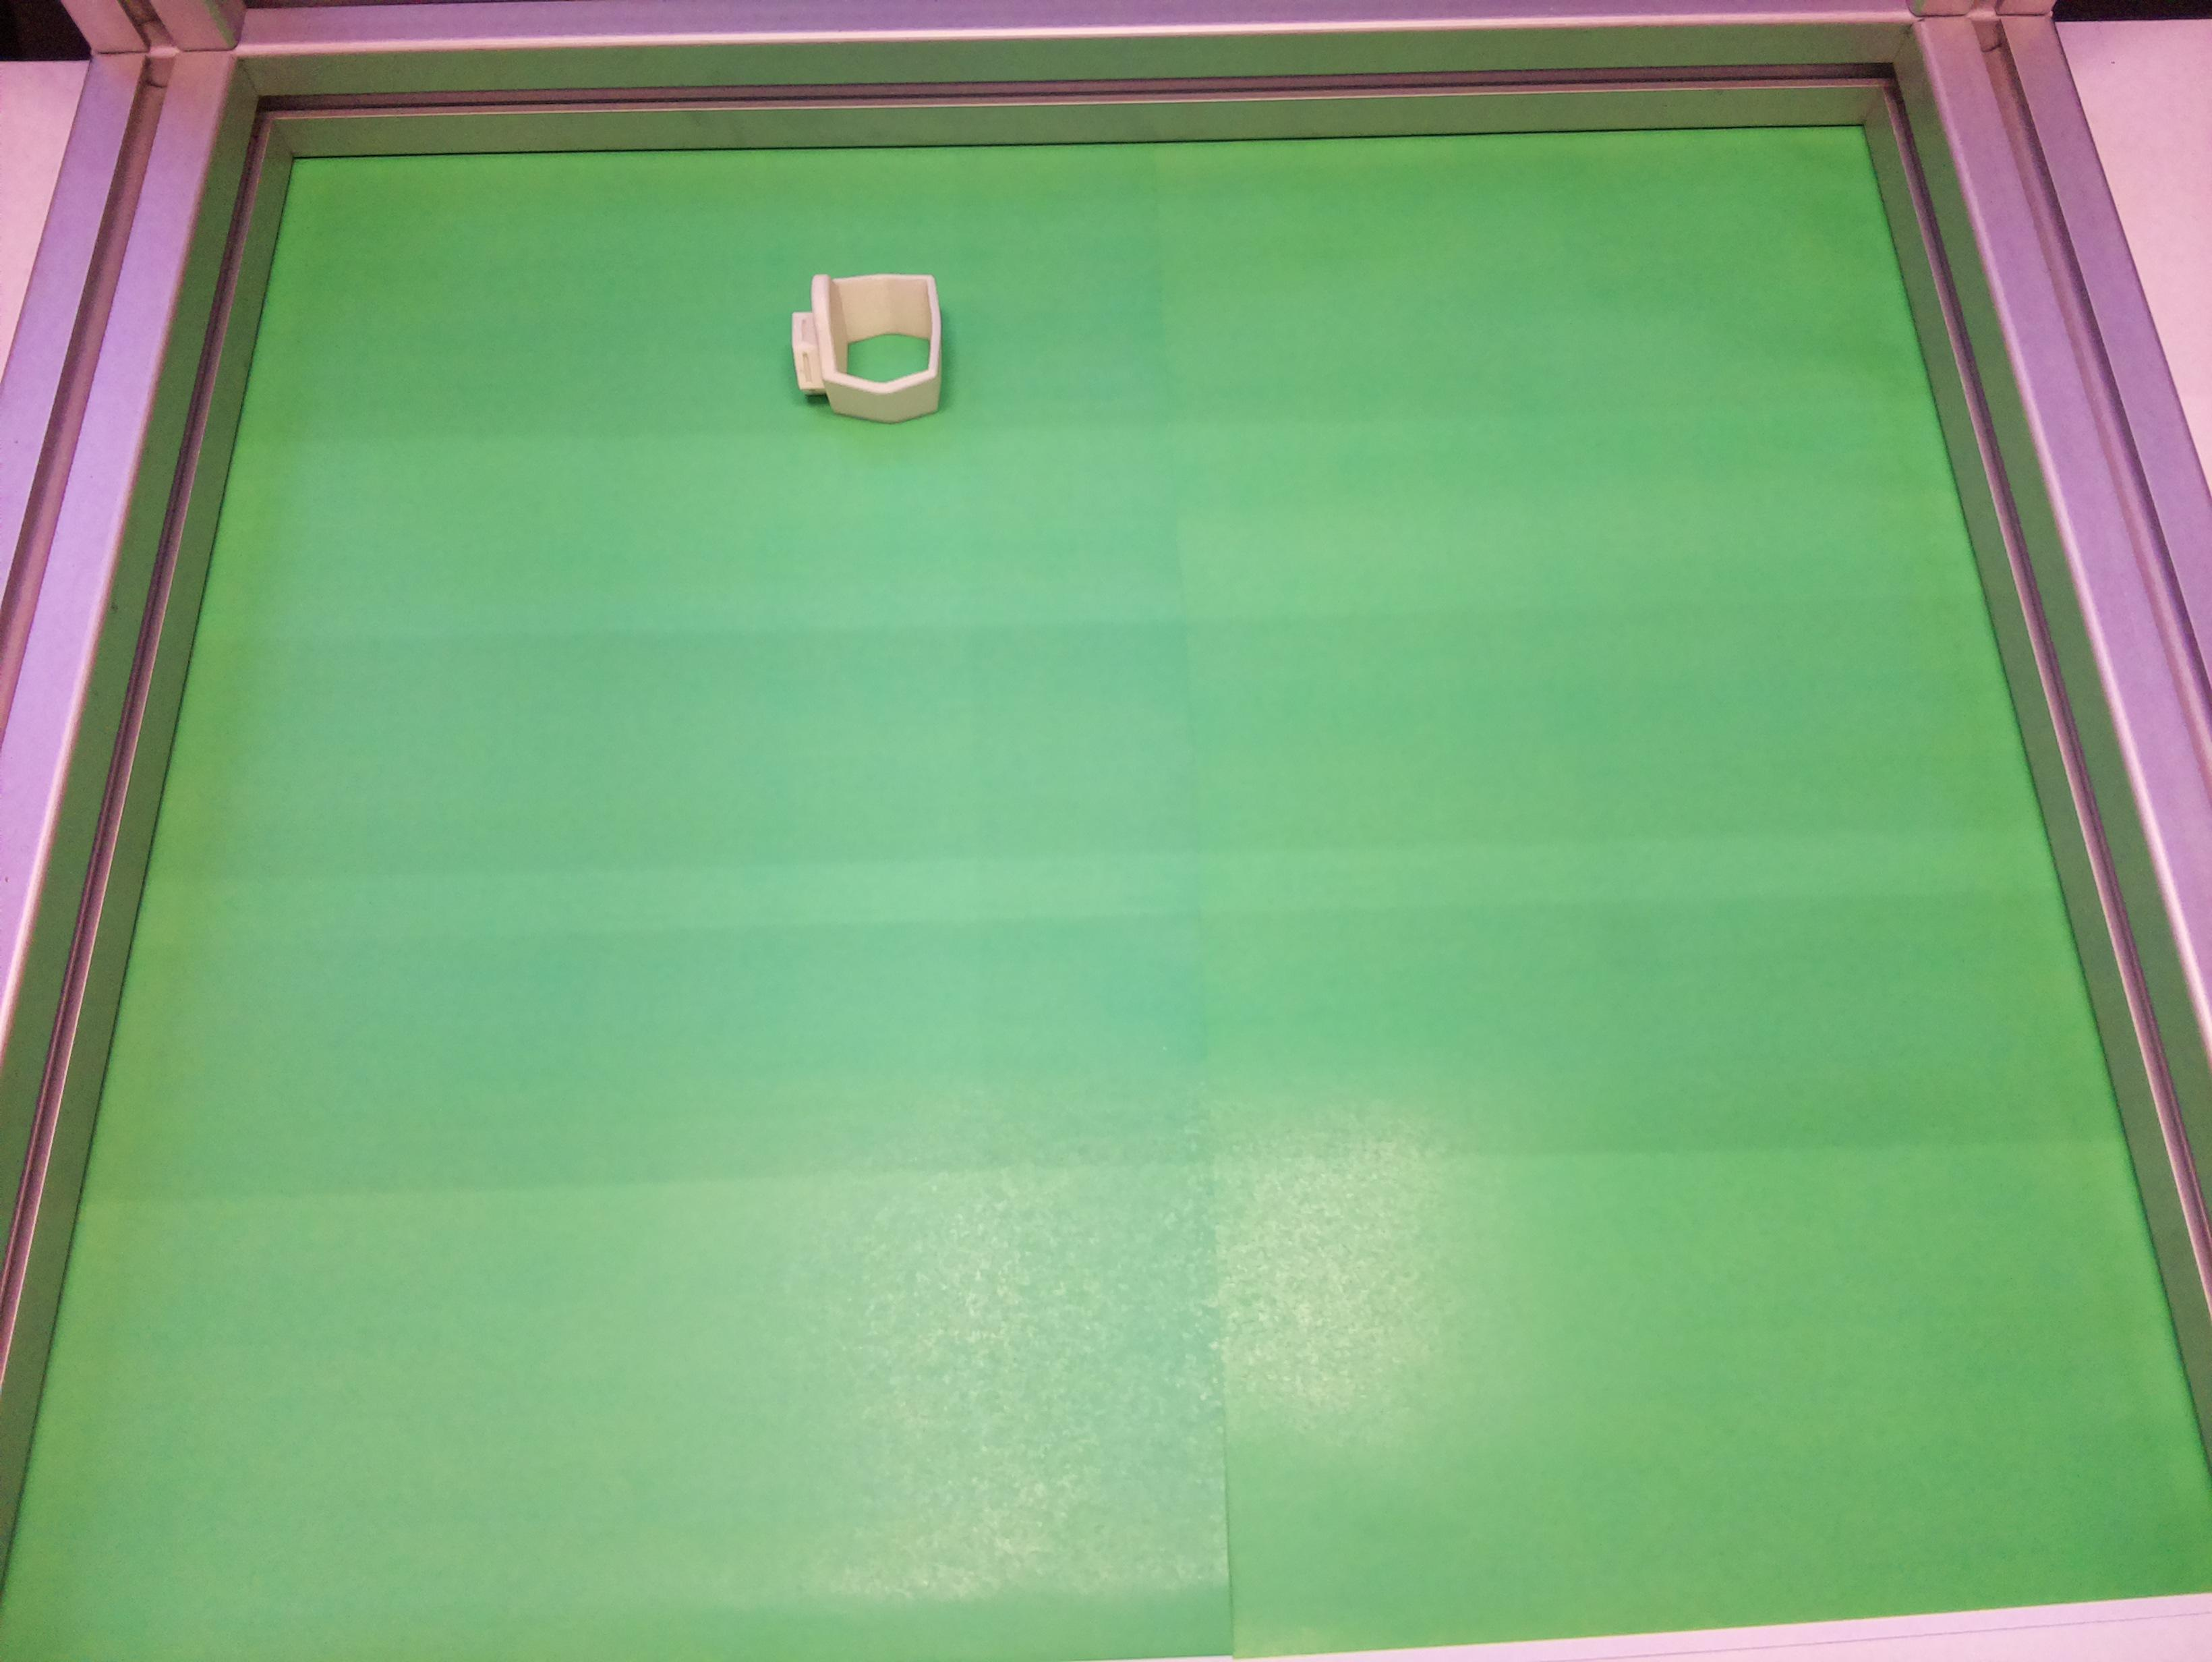tool_holder: (791, 276, 943, 422)
